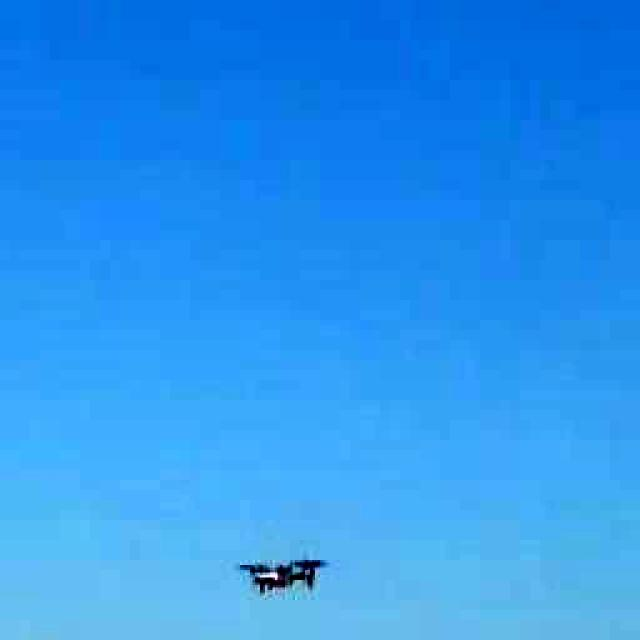bird: (218, 531, 342, 614)
